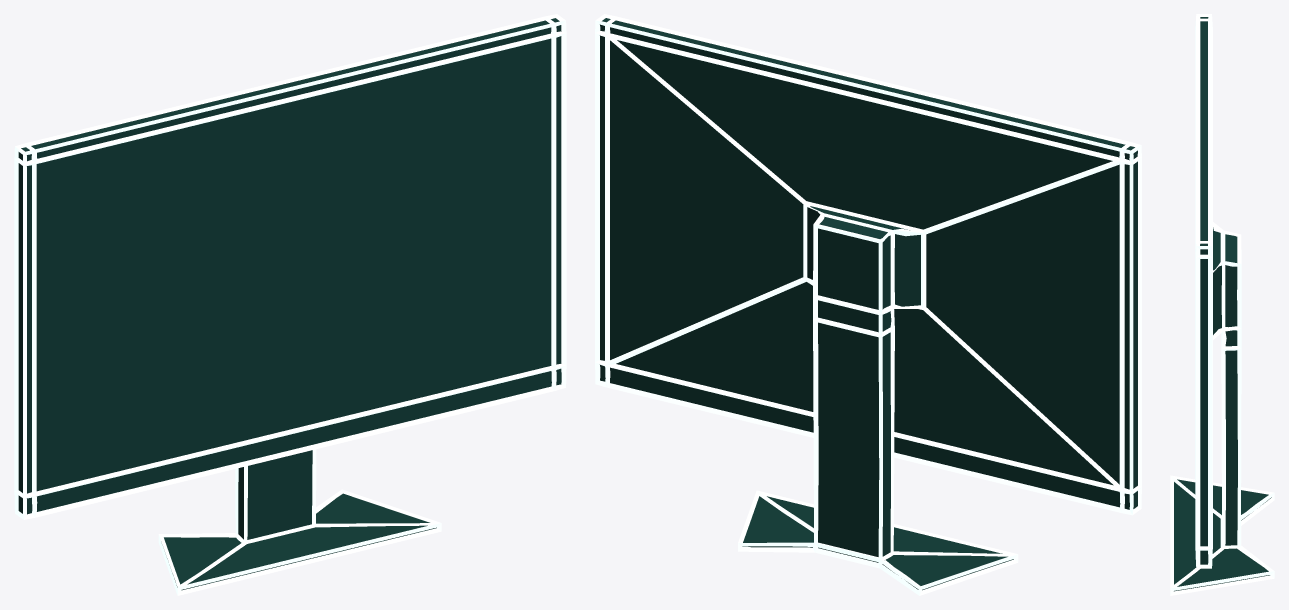
File: icon1.glb
3 renders of one model, left to right at view 1: azimuth 30°, elevation 25°; view 2: azimuth 150°, elevation 25°; view 3: azimuth 270°, elevation 25°, orthographic. The views are drawn at different scales.
Parts seen in each view (by area): view 1: model, edge; view 2: model, edge; view 3: model, edge.
Boxes of the visible parts, x1=… form: model: x1=18, y1=18, x2=561, y2=590; edge: x1=14, y1=14, x2=566, y2=595; model: x1=600, y1=18, x2=1137, y2=590; edge: x1=595, y1=14, x2=1141, y2=595; model: x1=1174, y1=17, x2=1271, y2=591; edge: x1=1170, y1=14, x2=1274, y2=595.
Size of the model in its own units: 1.7 by 1.4 by 0.3231.
